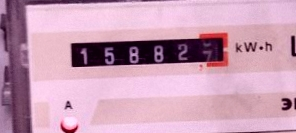1: (76, 45, 89, 64)
2: (175, 41, 188, 61)
5: (101, 45, 114, 65)
7: (200, 48, 212, 62)
8: (126, 43, 139, 64), (151, 43, 164, 64)
screen: (61, 27, 237, 75)
